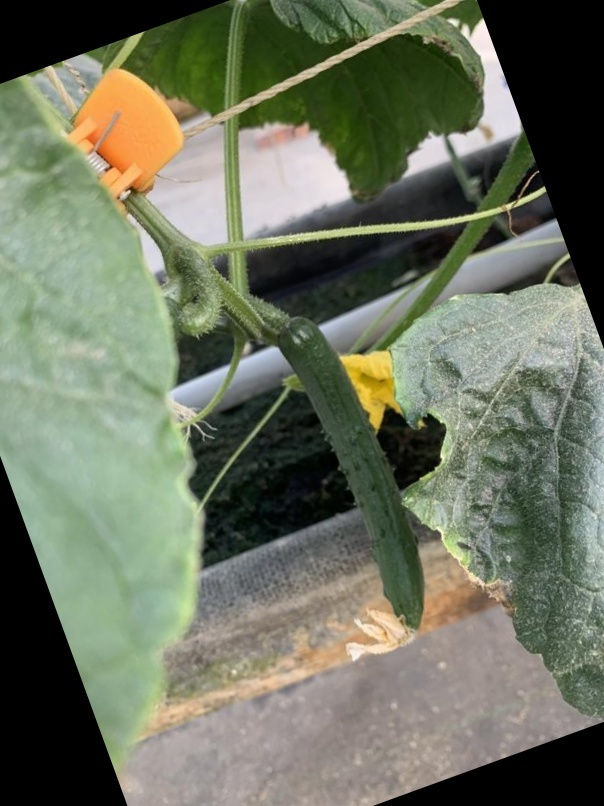mature: (279, 318, 436, 650)
